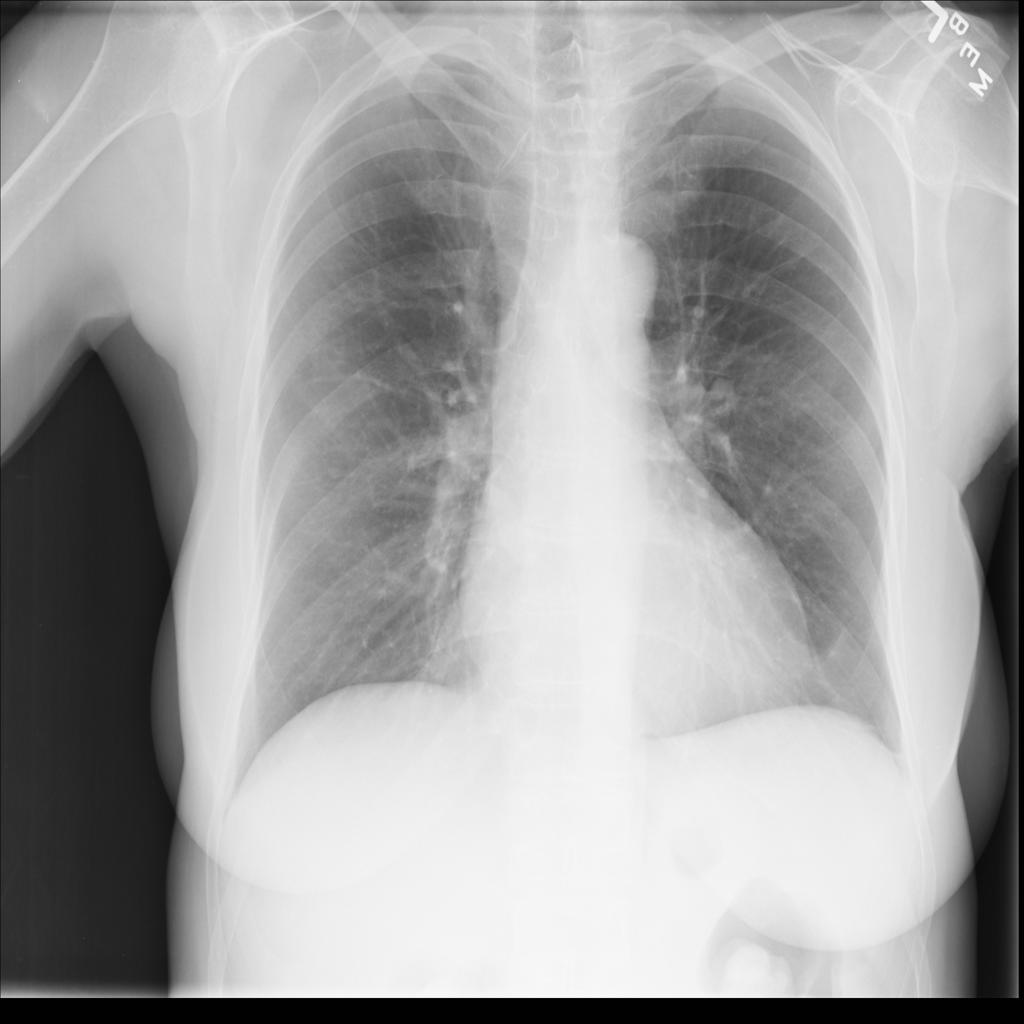nodule: (316, 450, 352, 490)
